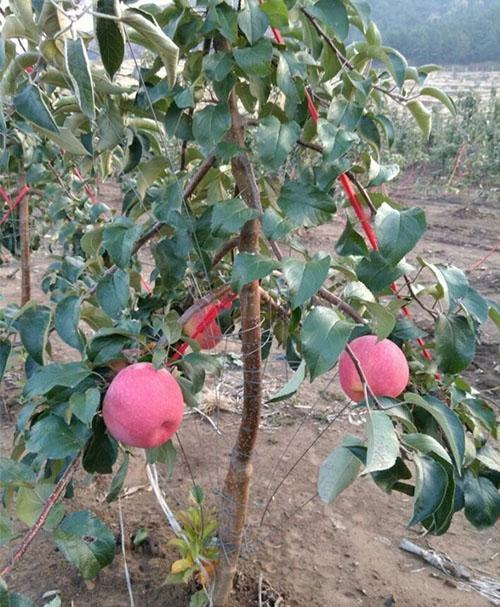apple: (104, 364, 182, 448), (338, 334, 409, 403)
